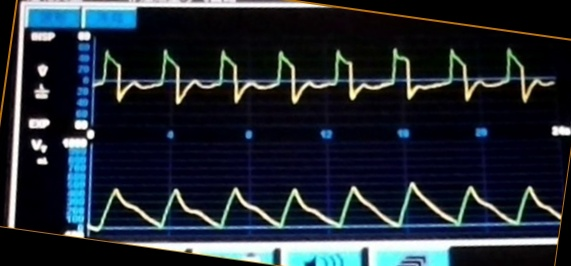Premature_cycling Flow: (96, 39, 554, 118)
Premature_cycling Volume: (95, 170, 559, 233)
